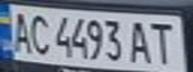3: (103, 16, 127, 62)
4: (66, 13, 87, 60), (51, 12, 72, 57)
9: (84, 15, 106, 61)
A: (124, 18, 154, 64), (6, 8, 36, 54)
C: (27, 10, 54, 56)
T: (145, 19, 181, 66)
